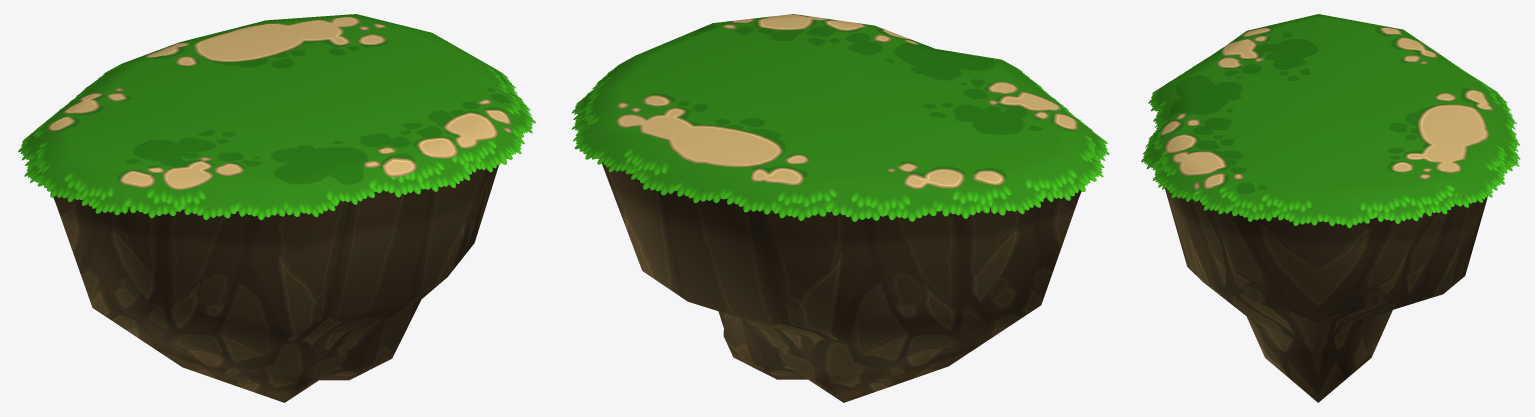
The model's file is Island_03.FBX.
3 views of the same model, side by side, from view 1: azimuth 30°, elevation 25°; view 2: azimuth 150°, elevation 25°; view 3: azimuth 270°, elevation 25° (orthographic). The views are drawn at different scales.
Visible parts, largest first — view 1: Island_03; view 2: Island_03; view 3: Island_03.
Boxes of the visible parts, bbox=[...] form: Island_03: bbox=[18, 14, 535, 402]; Island_03: bbox=[571, 14, 1109, 402]; Island_03: bbox=[1141, 14, 1520, 402].
Size of the model in its own units: 452 by 265 by 348.
